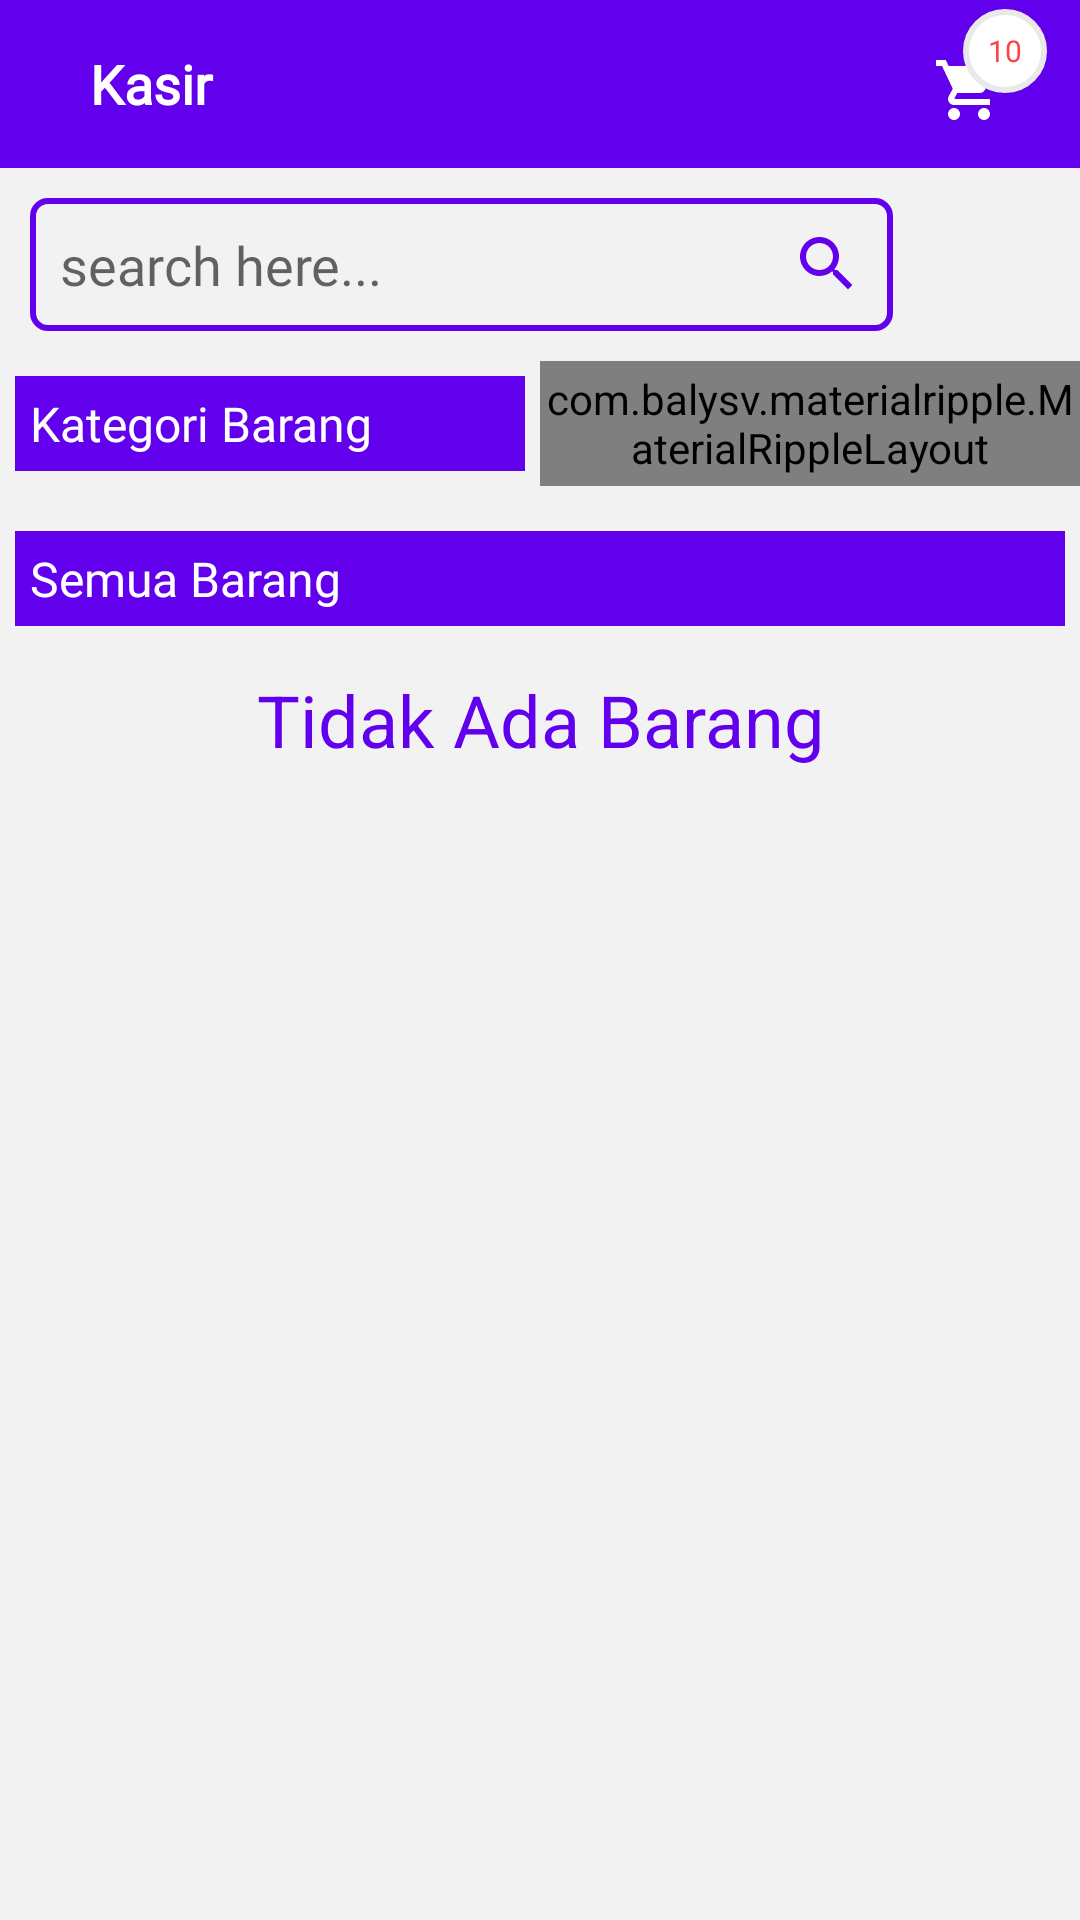

Point at icon controls on the screen. Image size 1080px x 1920px, points as (x,y).
shopping cart: (991,64)
